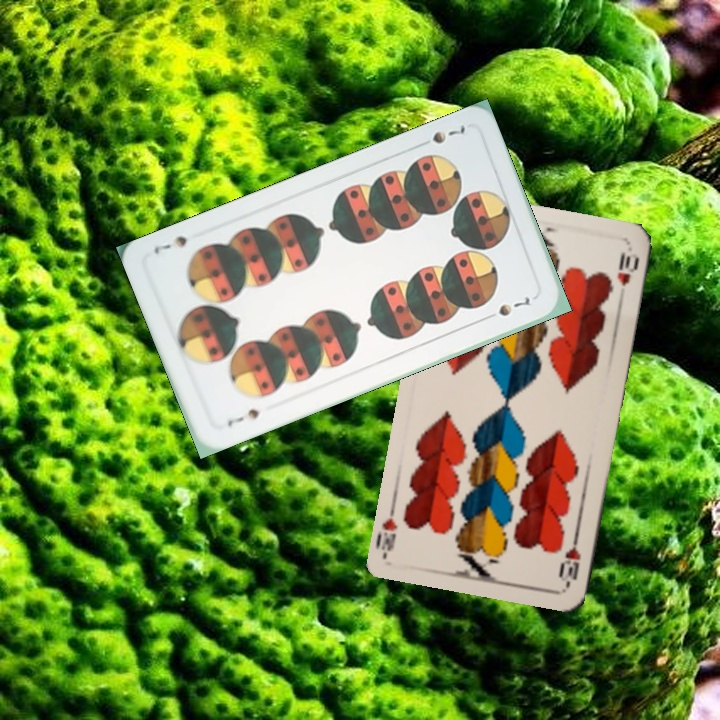H10: (557, 529, 584, 588)
S7: (428, 120, 468, 147), (223, 404, 263, 429)
